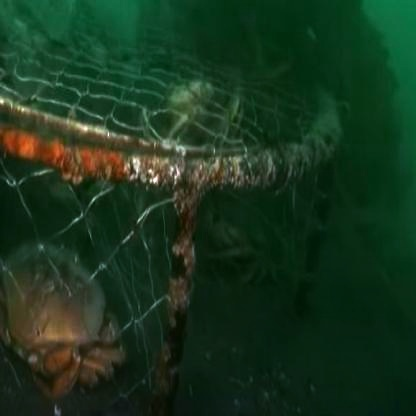net: (19, 58, 346, 216)
